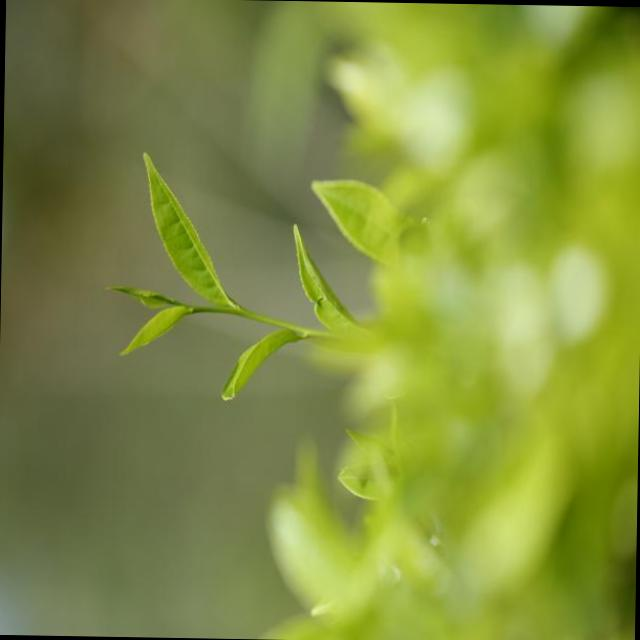Stem: (235, 306, 243, 313)
